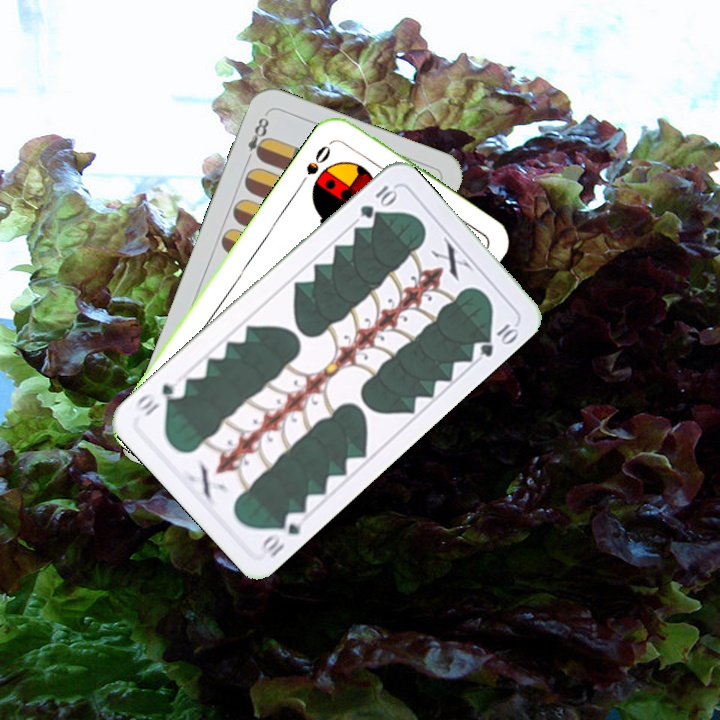E8: (241, 113, 272, 167)
G10: (255, 507, 308, 560), (355, 181, 400, 221)
SO: (302, 141, 334, 178)
